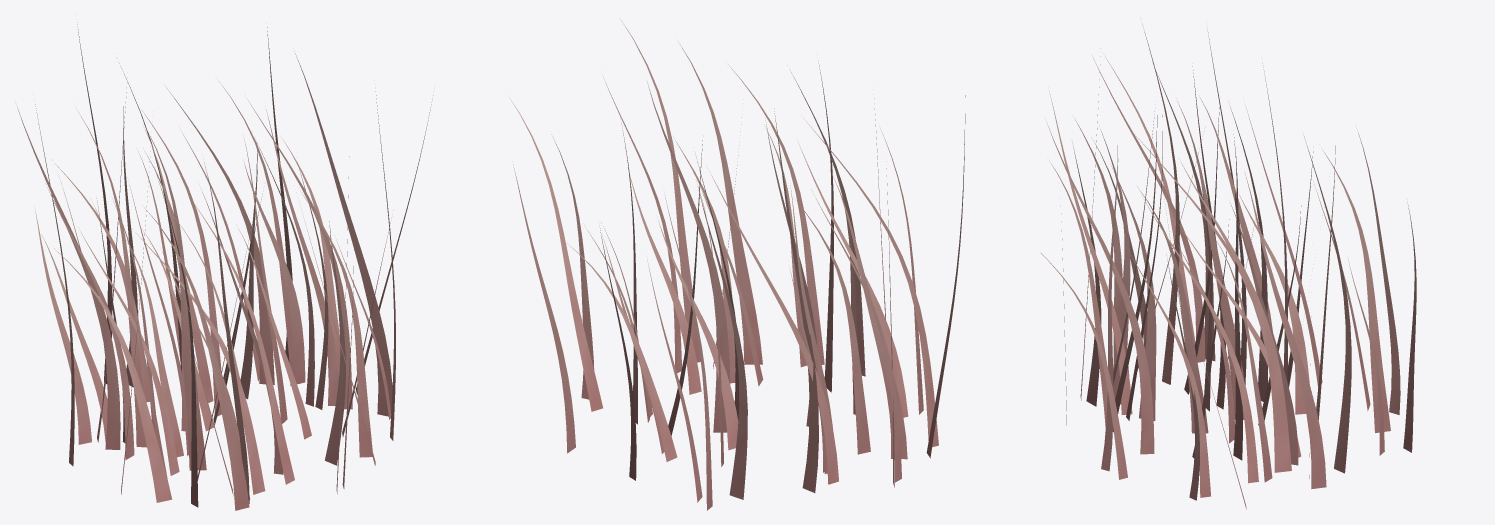
Rendered from mesh-plant-005-tideblade_LOD0.glb.
The picture shows the model from 3 angles, left to right: view 1: azimuth 30°, elevation 25°; view 2: azimuth 150°, elevation 25°; view 3: azimuth 270°, elevation 25°; orthographic projection. The views are drawn at different scales.
Parts seen in each view (by area): view 1: geometry_0; view 2: geometry_0; view 3: geometry_0.
Boxes of the visible parts, left/top/right/bottom form: geometry_0: left=17, top=22, right=433, bottom=510; geometry_0: left=509, top=19, right=965, bottom=510; geometry_0: left=1040, top=24, right=1416, bottom=509.
Bounding box in the file's own units: 2.42 × 1.87 × 2.21.
